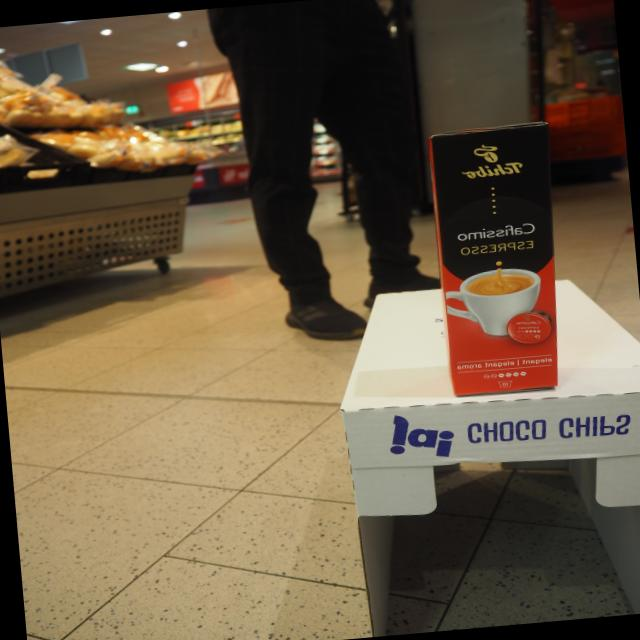Simo Es Elegant: (424, 117, 564, 399)
